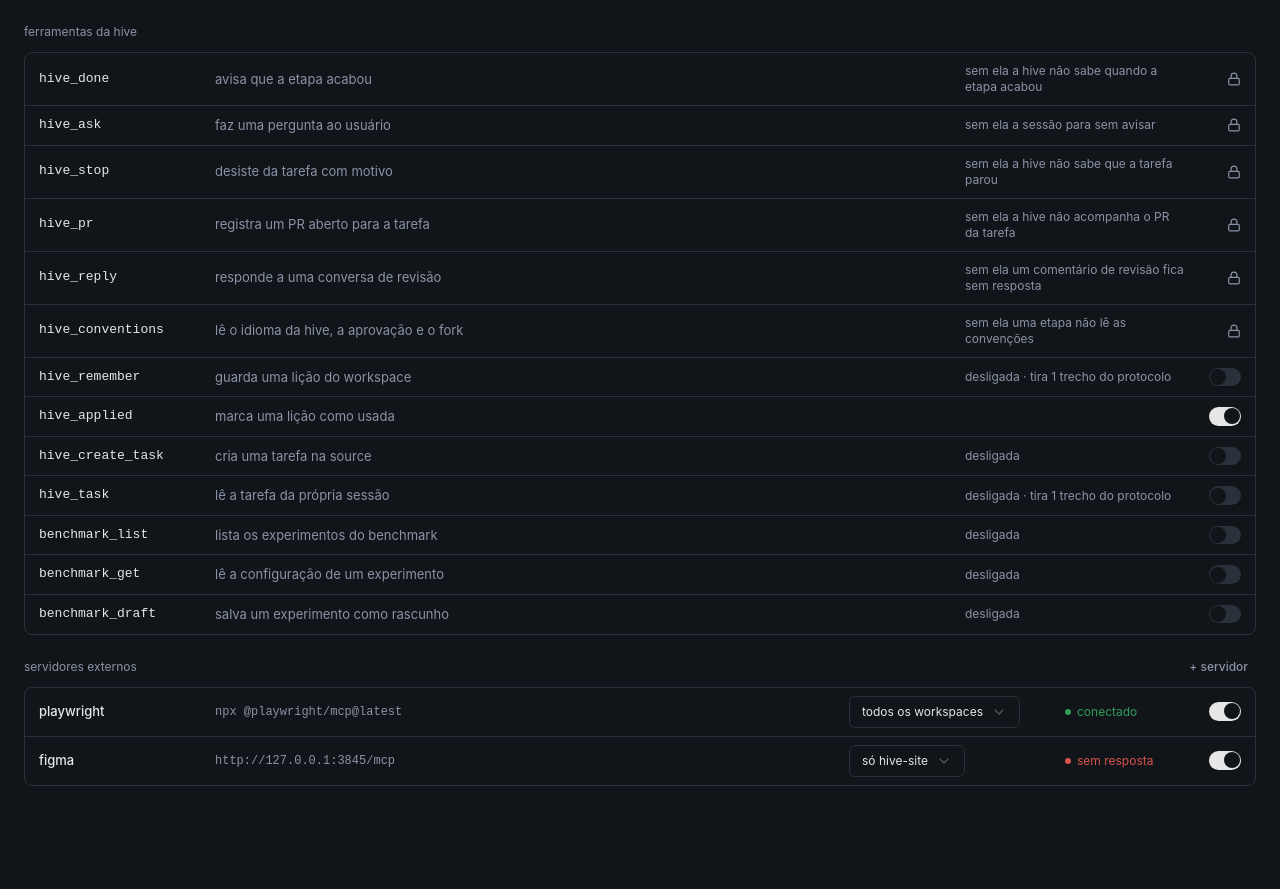
Test: a header value the route refuses closes the form and shows on the screen (#334)
The image size is (1280, 889).
Click the button with aria-label "editar figma".
click(57, 760)  # box x1=39 y1=749 x2=833 y2=772
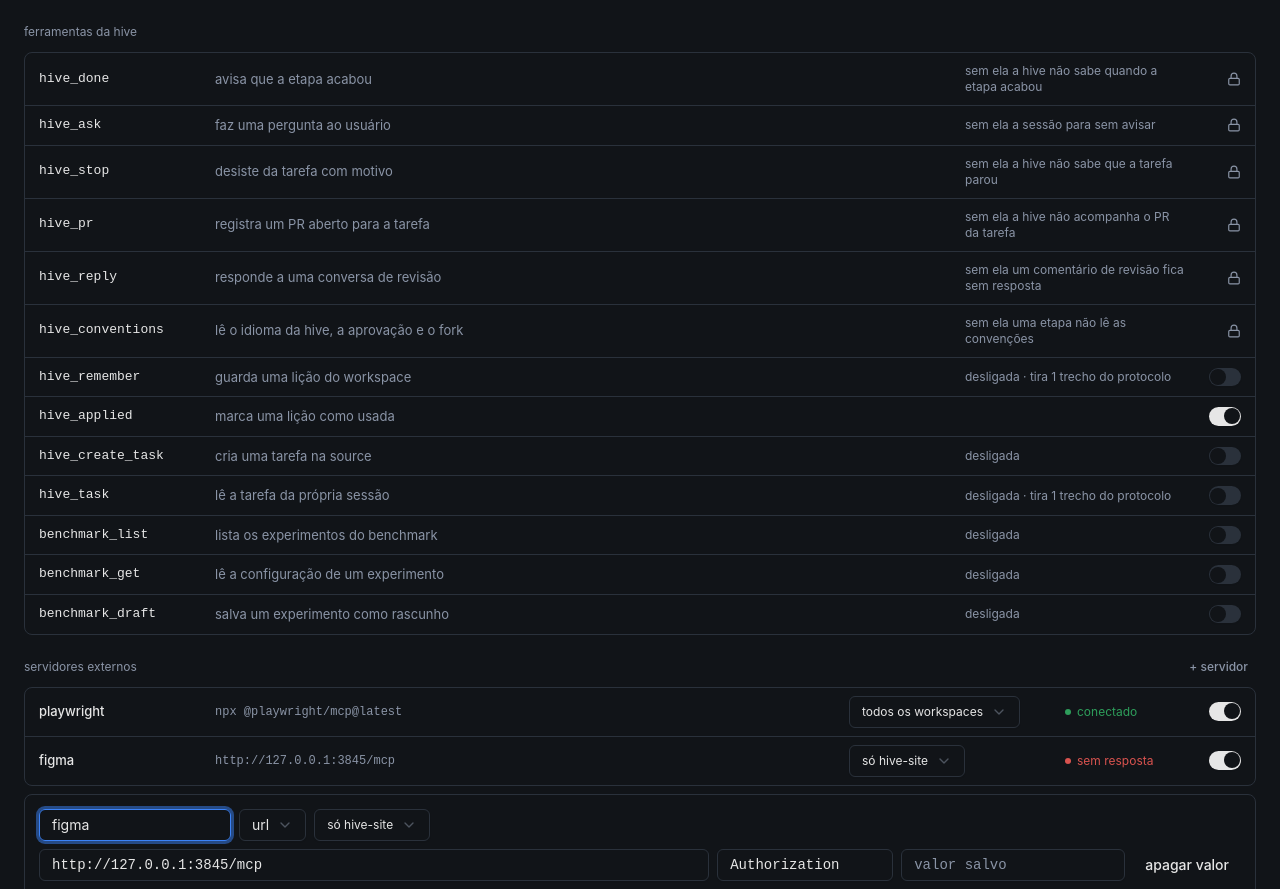
Type "header-value" into the password field named "valor do cabeçalho".
click(1013, 864); type("header-value")  # box x1=901 y1=848 x2=1125 y2=880
(page scrolled)
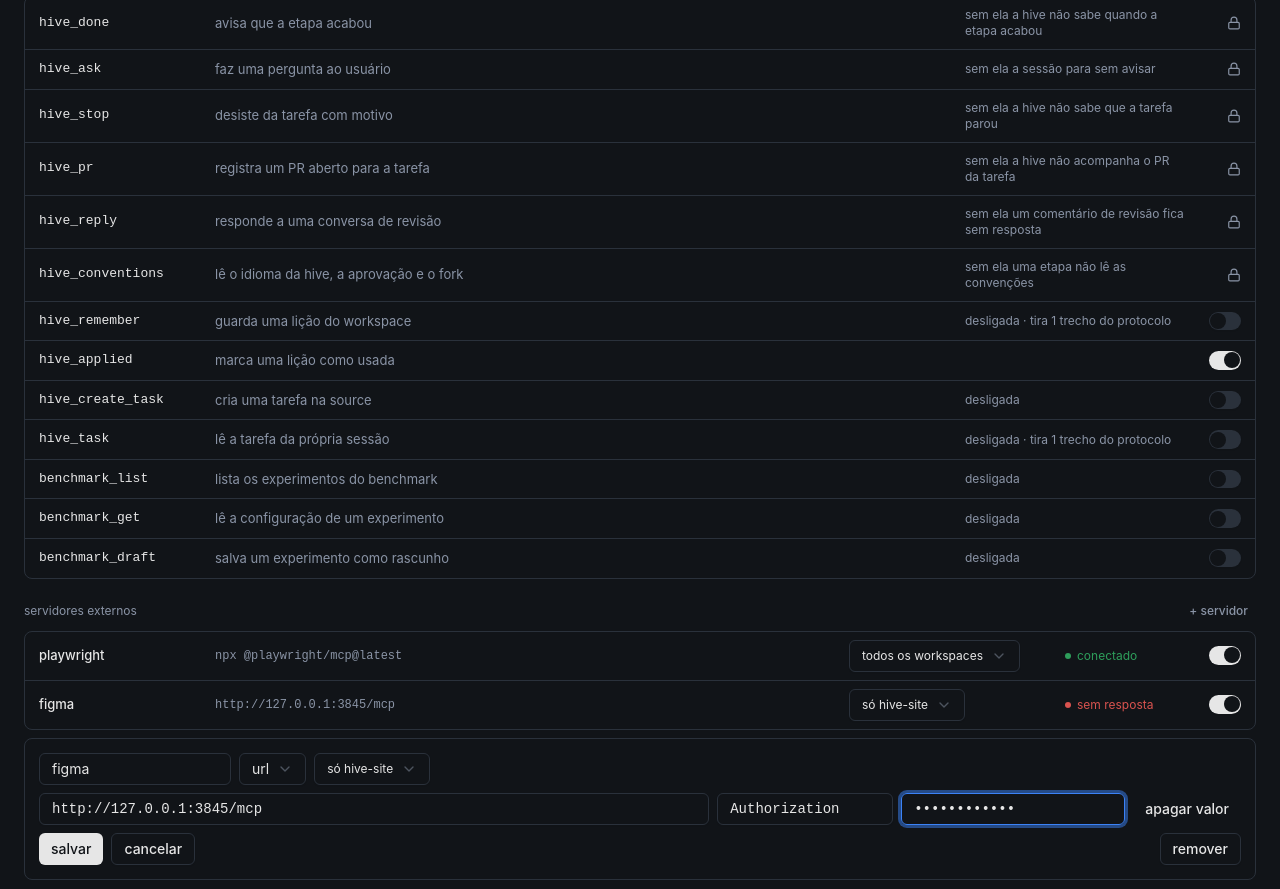
Click the button "salvar".
click(71, 848)  # box x1=39 y1=832 x2=103 y2=864
(page scrolled)
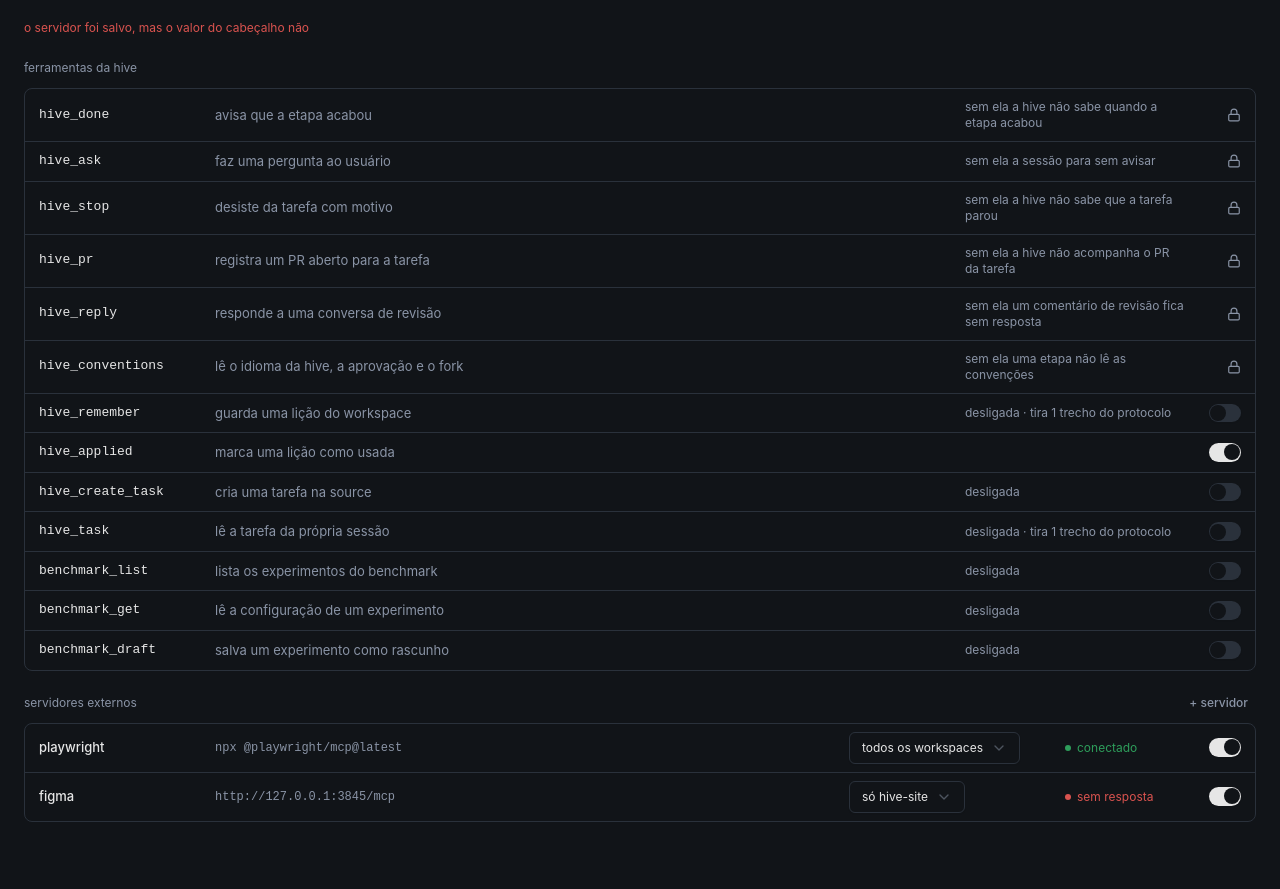
Expected: the message reads "o servidor foi salvo, mas o valor do cabeçalho não", x1=24 y1=20 x2=309 y2=35
Expected: the form is gone
